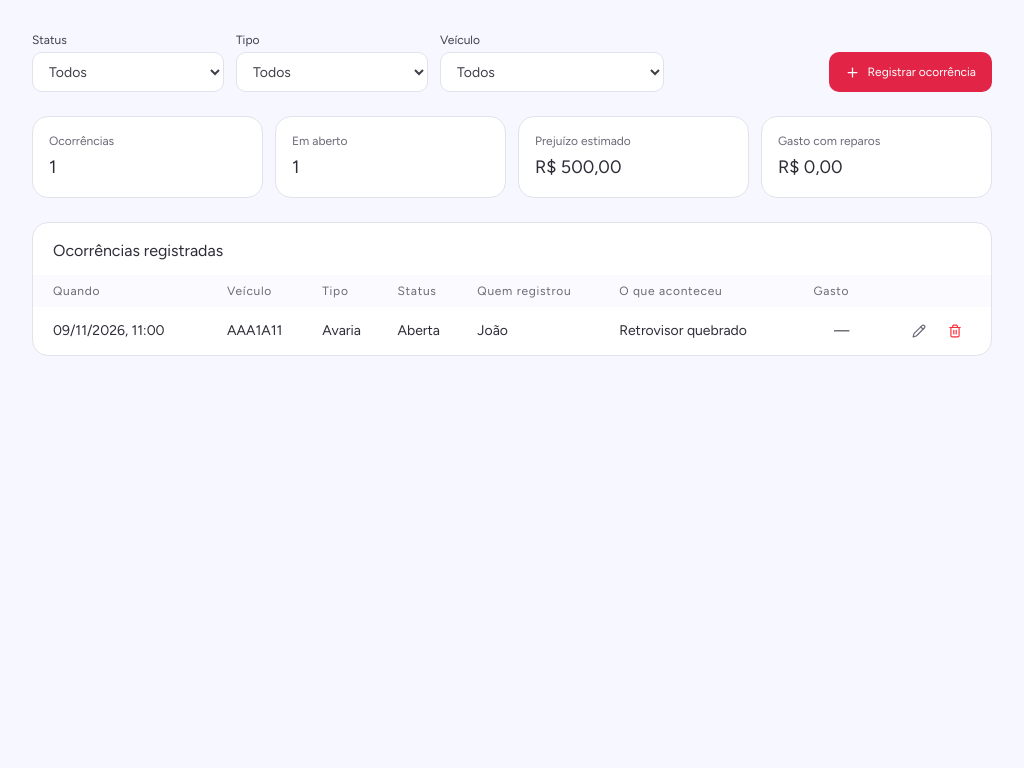
Scenario: Ocorrências: fotos logo depois de registrar › ao editar uma existente, salvar fecha o modal como antes
Click the button named "Abrir ocorrência de". click: (919, 331)
box: [903,315,935,347]
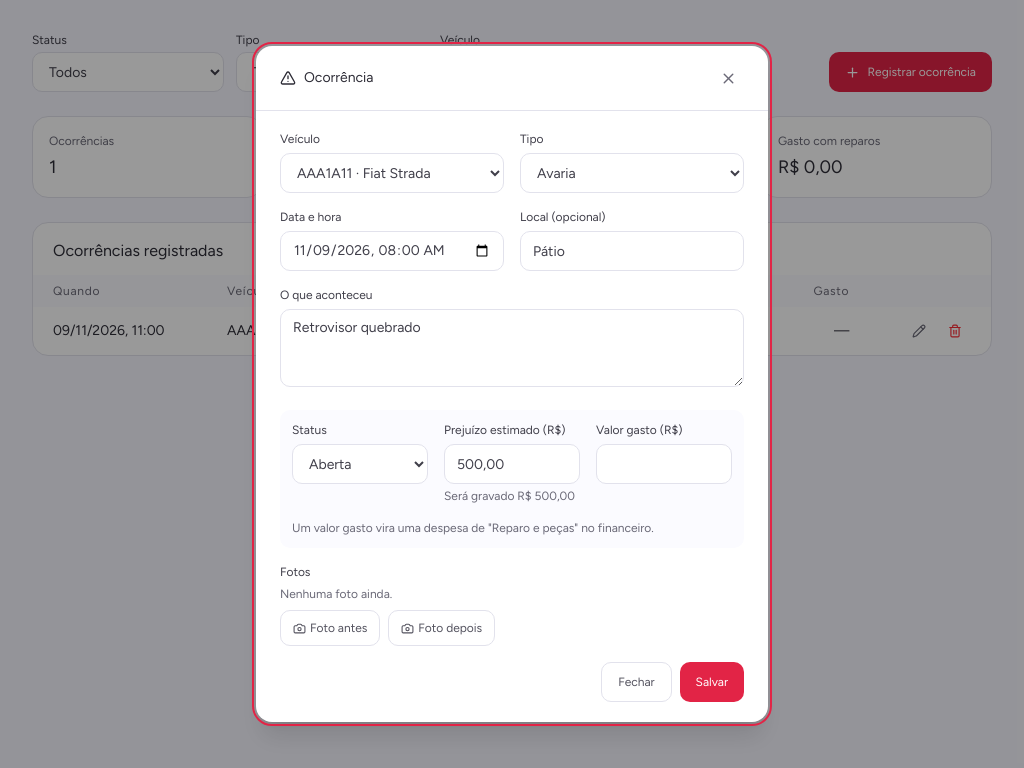
expect the element "Fotos" is shown: met, box [280,565,495,646]
Click the button "Salvar". click: (712, 682)
box: [680,662,744,702]
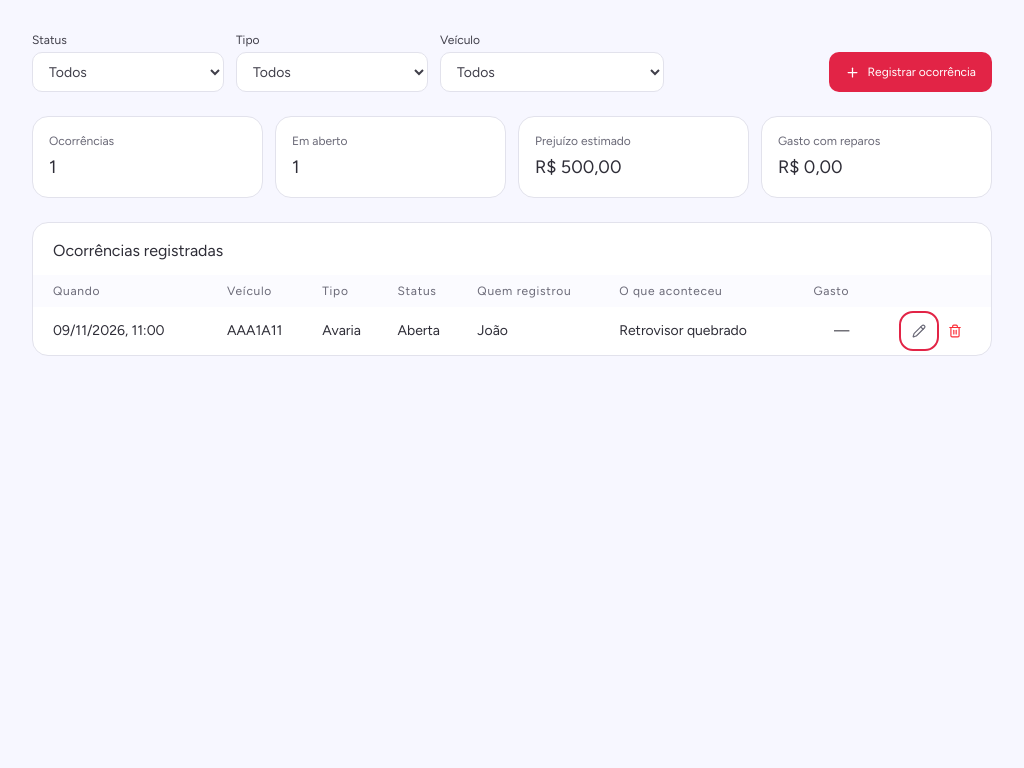
expect the dialog is gone: met
